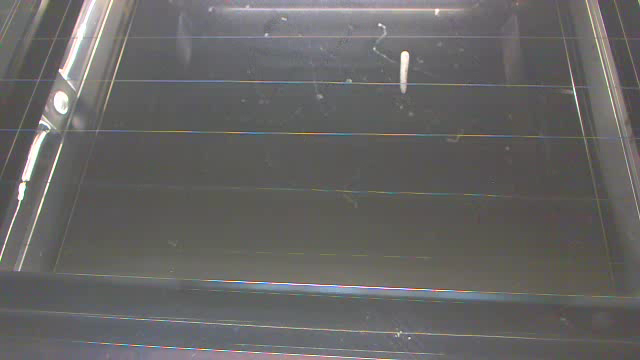alpha: (398, 49, 410, 96)
